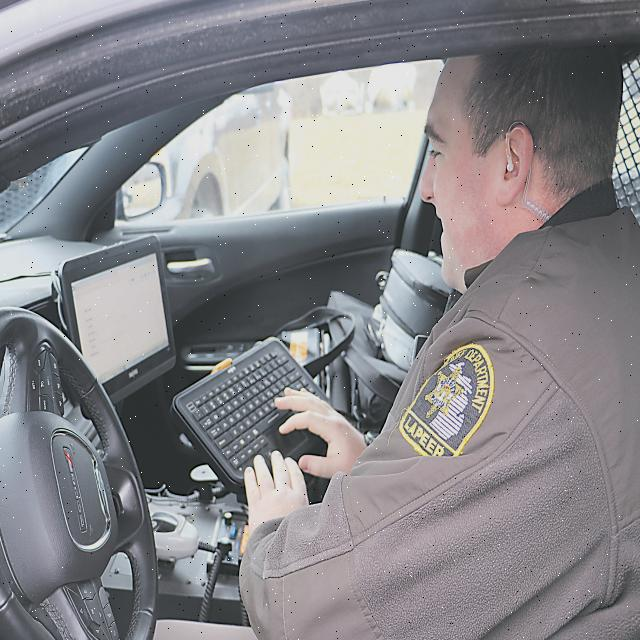police: (240, 40, 640, 640)
